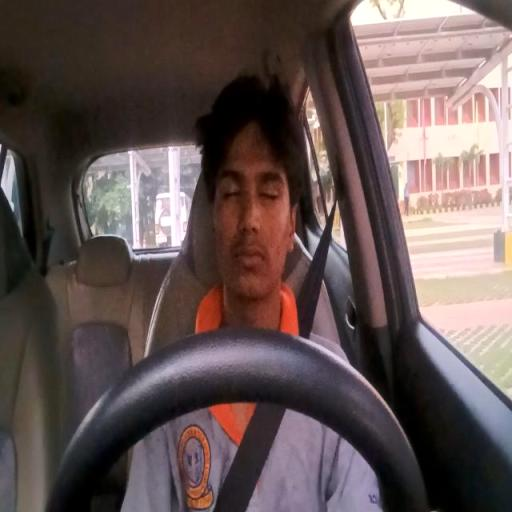sleepy: (193, 74, 309, 299)
